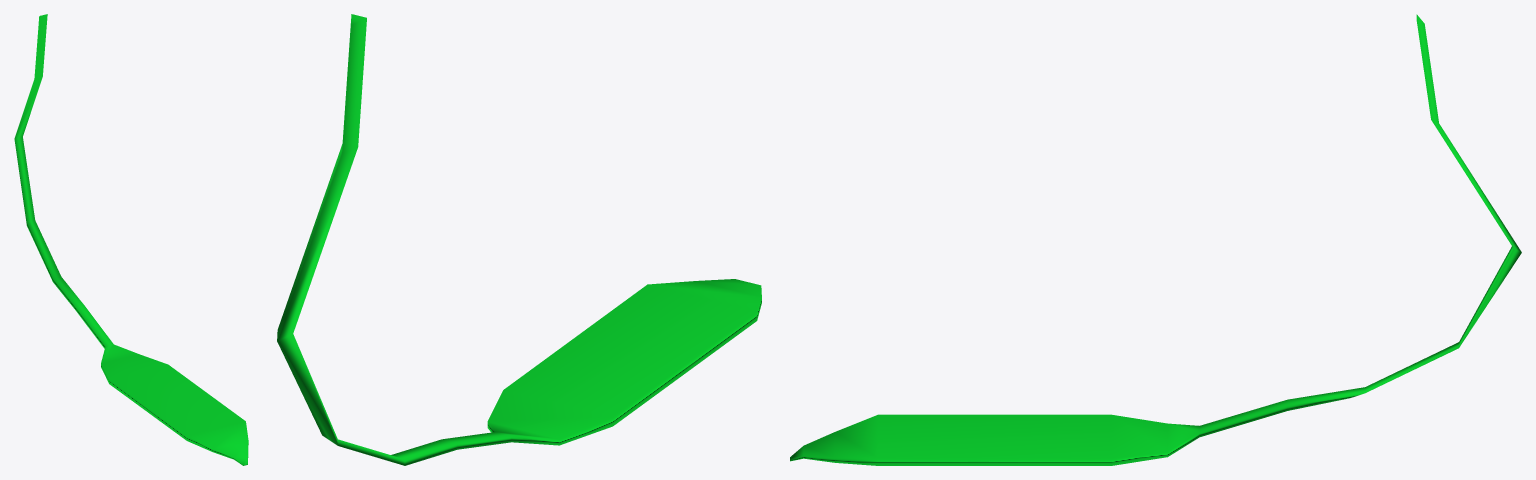
File: leafPlatform_lower.fbx
The picture shows the model from 3 angles, left to right: view 1: azimuth 30°, elevation 25°; view 2: azimuth 150°, elevation 25°; view 3: azimuth 270°, elevation 25°; orthographic projection. The views are drawn at different scales.
Visible parts, largest first — view 1: leafPlatform_lower; view 2: leafPlatform_lower; view 3: leafPlatform_lower.
Boxes of the visible parts, x1=… form: leafPlatform_lower: x1=14, y1=14, x2=248, y2=465; leafPlatform_lower: x1=277, y1=14, x2=761, y2=465; leafPlatform_lower: x1=790, y1=14, x2=1521, y2=465.
Size of the model in its own units: 1.15 by 5.51 by 8.18.
